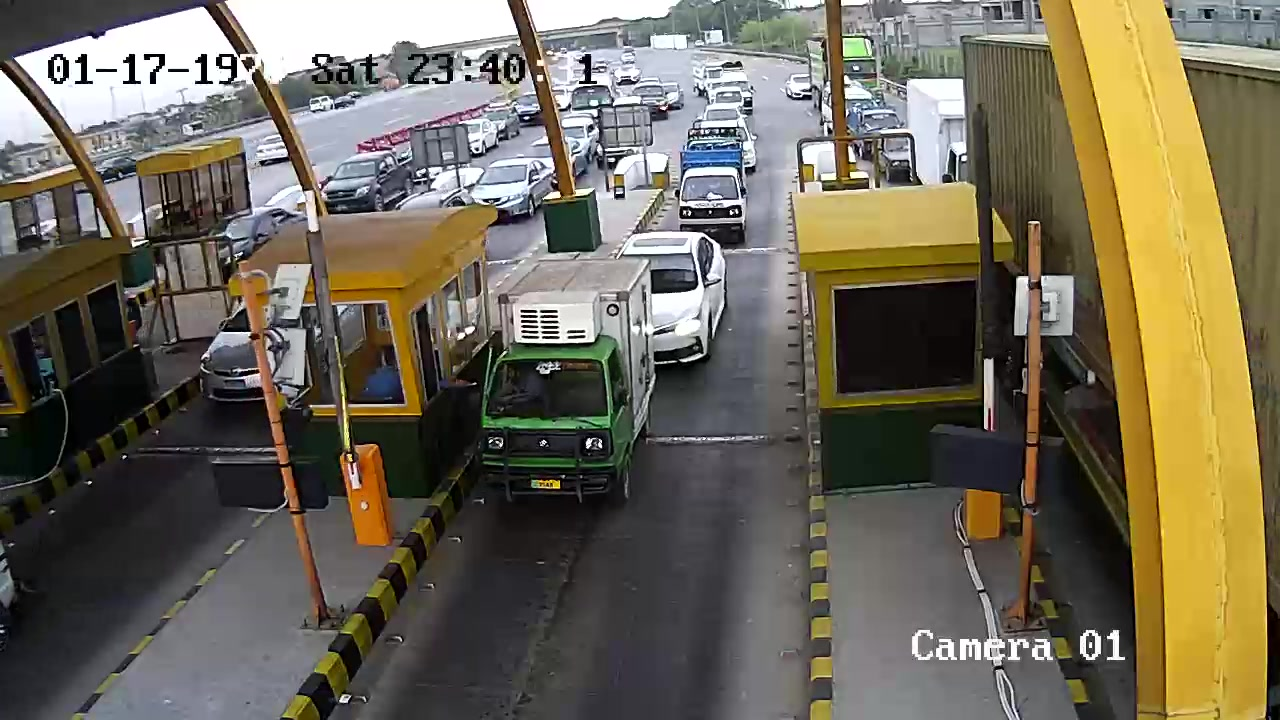F1: (470, 247, 664, 523)
